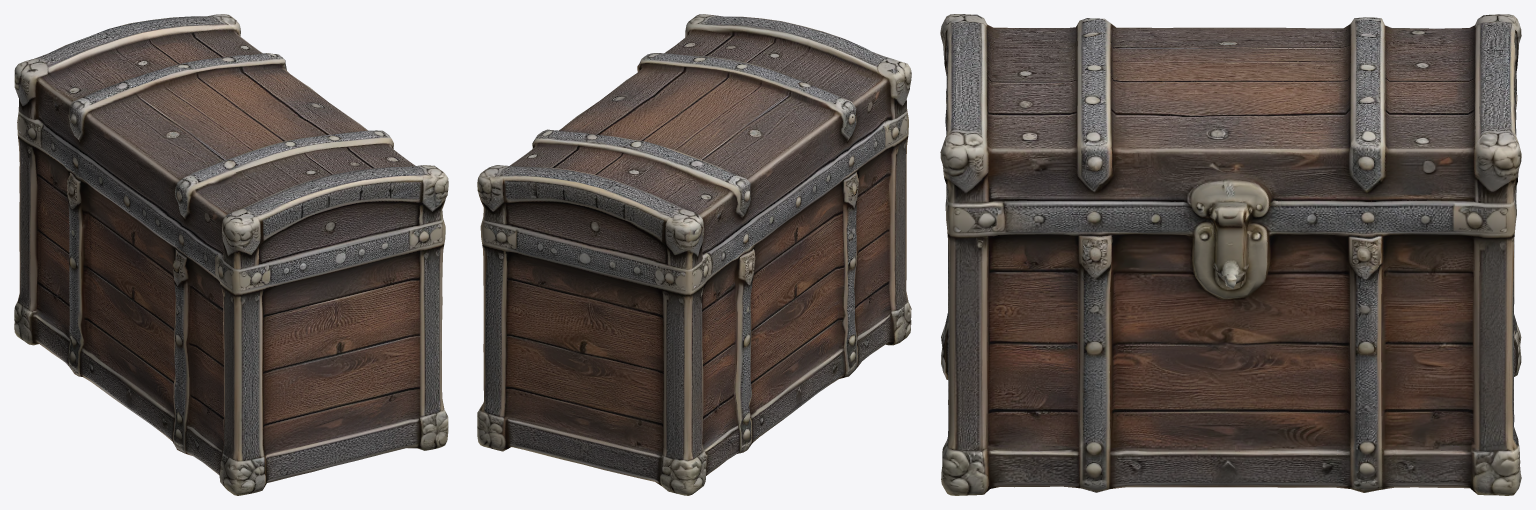
Rendered from metal_trunk_tripo_convert_7048b587-22d4-4dcd-b2ea-39893611e1b7.fbx.
The picture shows the model from 3 angles, left to right: view 1: azimuth 30°, elevation 25°; view 2: azimuth 150°, elevation 25°; view 3: azimuth 270°, elevation 25°; orthographic projection. The views are drawn at different scales.
Parts seen in each view (by area): view 1: tripo_node_7048b587; view 2: tripo_node_7048b587; view 3: tripo_node_7048b587.
Boxes of the visible parts, <box> form: tripo_node_7048b587: <box>14,14,448,495</box>; tripo_node_7048b587: <box>477,14,911,495</box>; tripo_node_7048b587: <box>940,14,1521,495</box>.
Size of the model in its own units: 59.55 by 70.33 by 99.75.
Materials: 1 (1 with a texture image).
